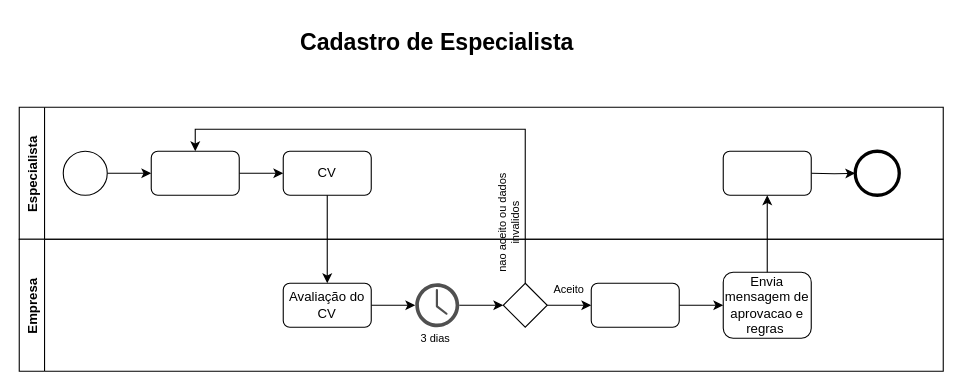
The diagram is 963 pixels wide and 391 high, and some of its shapes have lost their labels. Each missing label, with the centre of its shape:
Cadastra Especialista: point 634,304
Cadsatro: point 194,172
Recebe mensagem por e-mail: point 766,172
